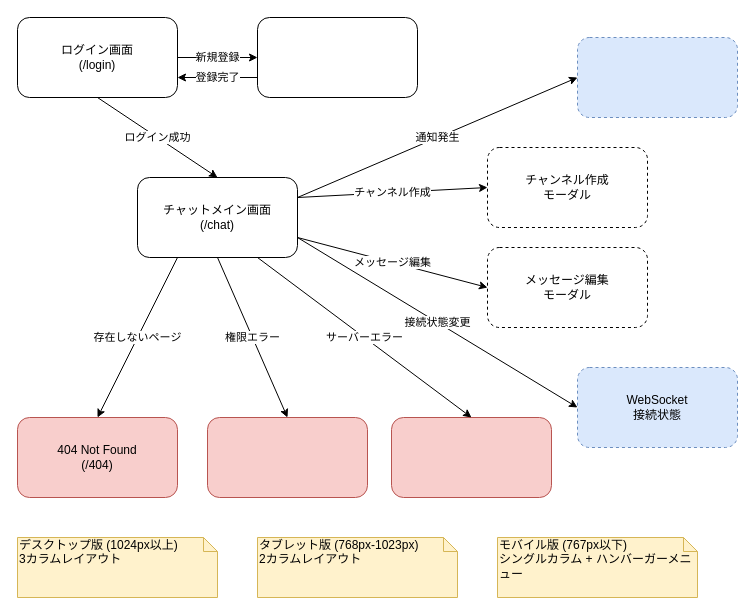
Image size: 755x615. Some labels were removed from this diagram. Here are the shapes that lost their labels. From the top down, the centre of each, then its label:
the point at 337,57: 新規登録画面 (/register)
the point at 657,77: トースト通知
the point at 287,457: 403 Forbidden (/403)
the point at 471,457: 500 Internal Error (/500)
